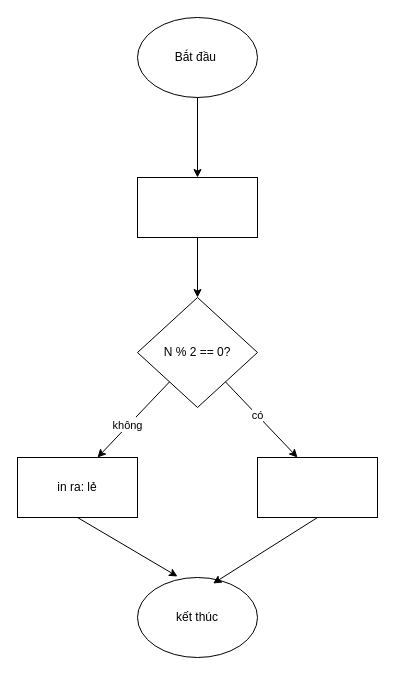
Image size: 395x675. Some labels were removed from this diagram. The shapes that lost their labels are listed below. From the top down, each one's centre as x and y in pixels, then its label:
the point at 197,207: Nhập số nguyên N
the point at 317,487: in ra: b nhỏ
